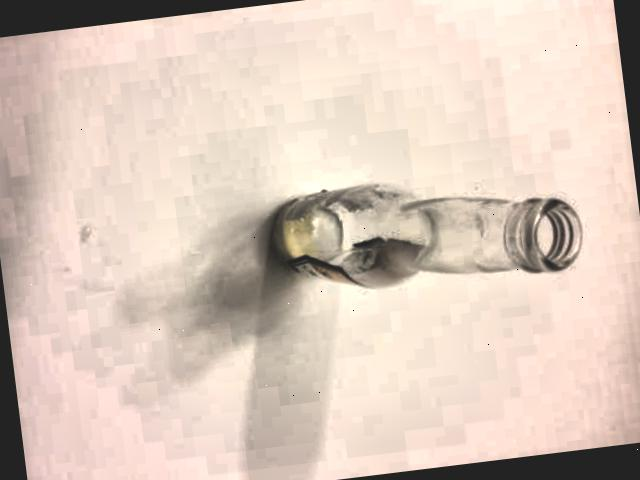Bottles: (250, 136, 592, 342)
